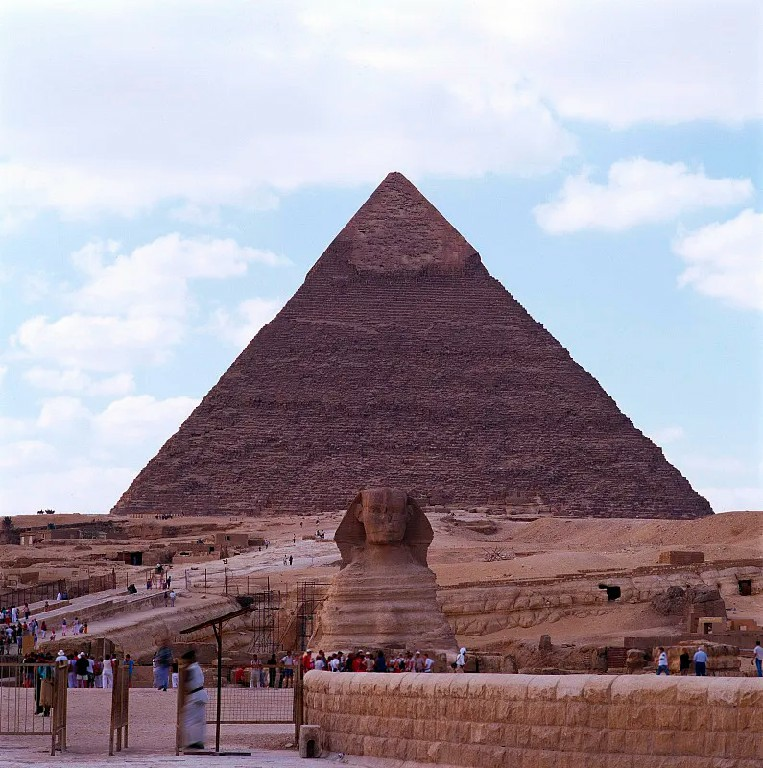Pyramid: (110, 172, 718, 521)
